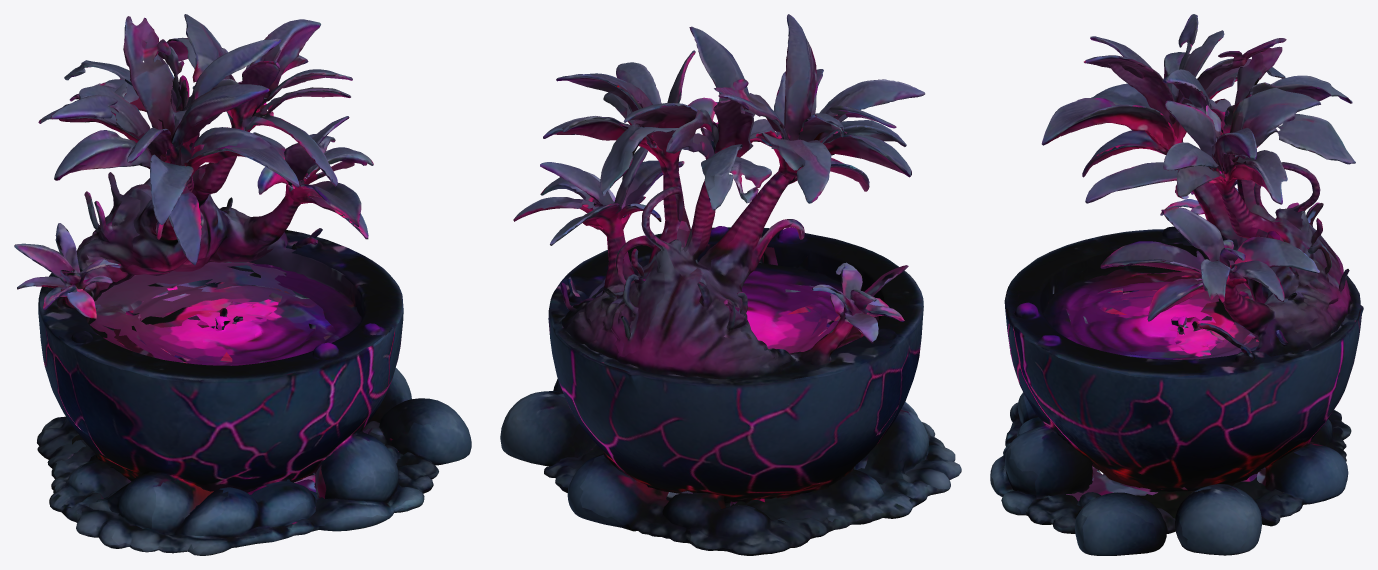
File: growth-planter-generated-2026-05-17T18-55-06-889Z.high.glb
3 renders of one model, left to right at view 1: azimuth 30°, elevation 25°; view 2: azimuth 150°, elevation 25°; view 3: azimuth 270°, elevation 25°, orthographic. The views are drawn at different scales.
Visible parts, largest first — view 1: temp_mesh.ply; view 2: temp_mesh.ply; view 3: temp_mesh.ply.
Boxes of the visible parts, bbox=[...] form: temp_mesh.ply: bbox=[14, 14, 471, 555]; temp_mesh.ply: bbox=[500, 14, 961, 555]; temp_mesh.ply: bbox=[990, 14, 1363, 555].
Bounding box in the file's own units: 1.86 × 1.97 × 1.64.
1 material, 1 textured.
